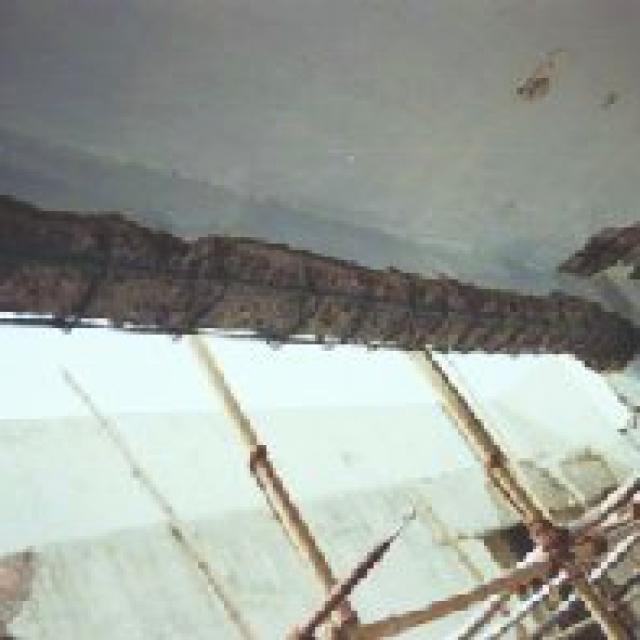Spalling: (0, 221, 631, 371)
